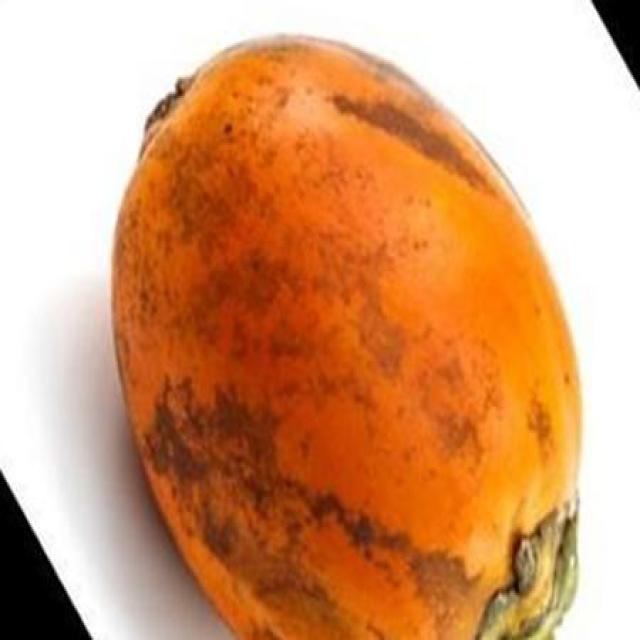good: (110, 38, 585, 638)
